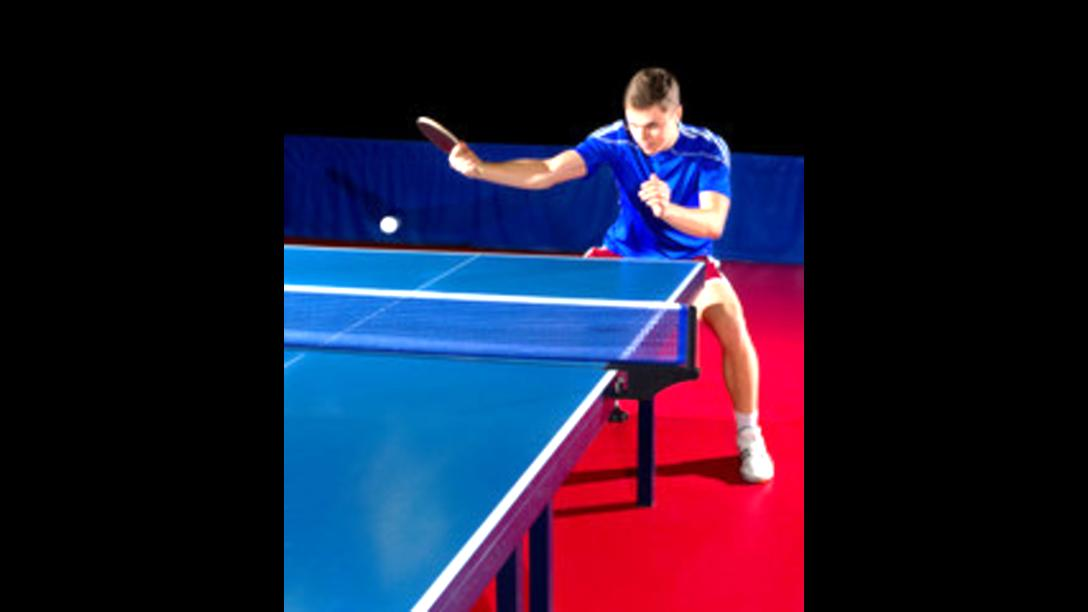Table-Tennis-Ball: (381, 215, 397, 232)
